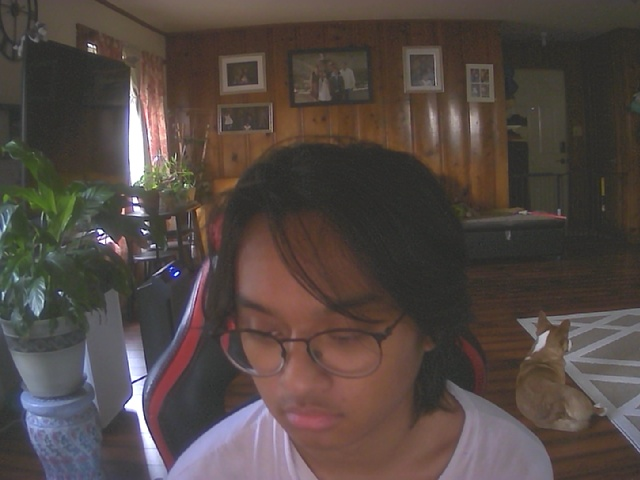neutral: (208, 158, 461, 448)
